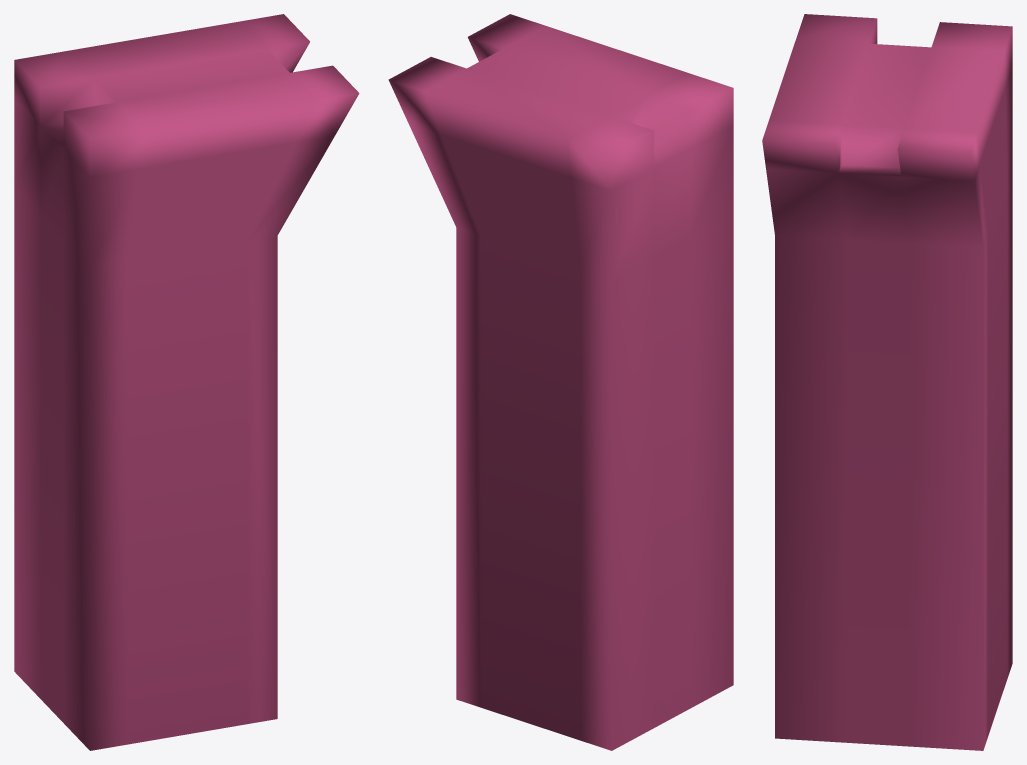
The model's file is arena_barriere_01.fbx.
The picture shows the model from 3 angles, left to right: view 1: azimuth 30°, elevation 25°; view 2: azimuth 150°, elevation 25°; view 3: azimuth 270°, elevation 25°; orthographic projection. The views are drawn at different scales.
Parts seen in each view (by area): view 1: Bariere1; view 2: Bariere1; view 3: Bariere1.
Part boxes in pixels (x1=…): Bariere1: x1=14, y1=14, x2=359, y2=750; Bariere1: x1=388, y1=14, x2=733, y2=750; Bariere1: x1=762, y1=14, x2=1012, y2=750.
Bounding box in the file's own units: 1.03 × 2.2 × 0.7856.
